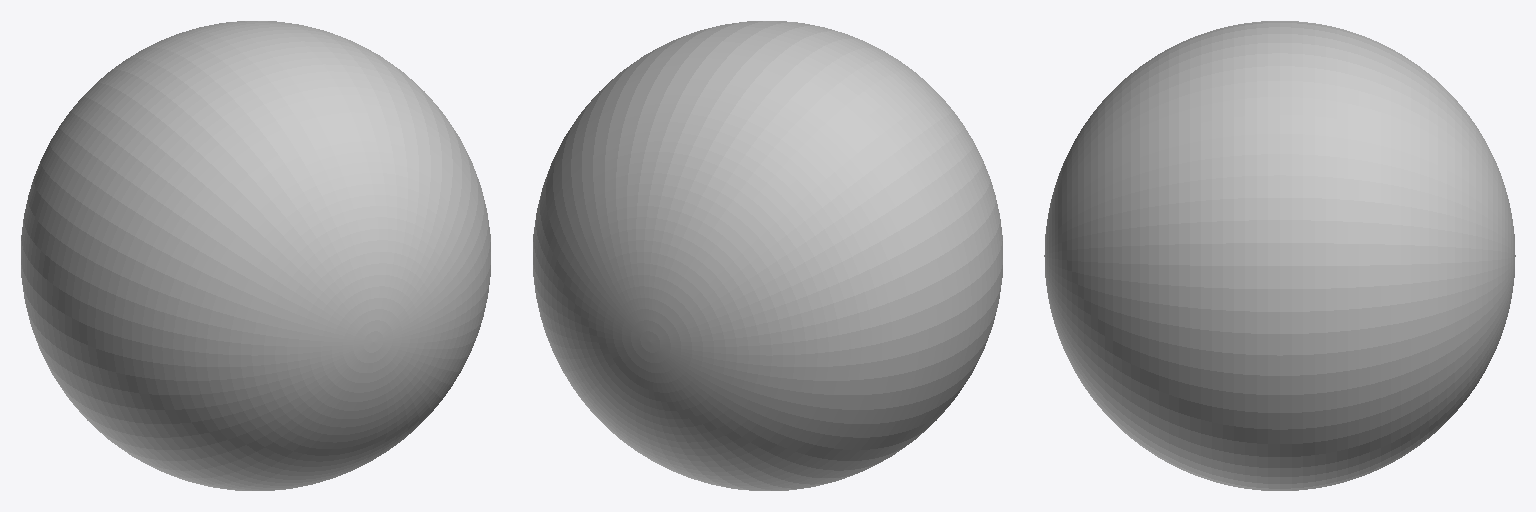
Rendered from SmoothSphere.obj.
The picture shows the model from 3 angles: view 1: azimuth 30°, elevation 25°; view 2: azimuth 150°, elevation 25°; view 3: azimuth 270°, elevation 25°; orthographic projection.
Visible parts, largest first — view 1: Sphere; view 2: Sphere; view 3: Sphere.
Boxes of the visible parts, box(x1,y1,x2,y2) form: Sphere: box(21, 21, 490, 490); Sphere: box(533, 21, 1002, 490); Sphere: box(1044, 21, 1515, 490).
Bounding box in the file's own units: 2 × 2 × 2.